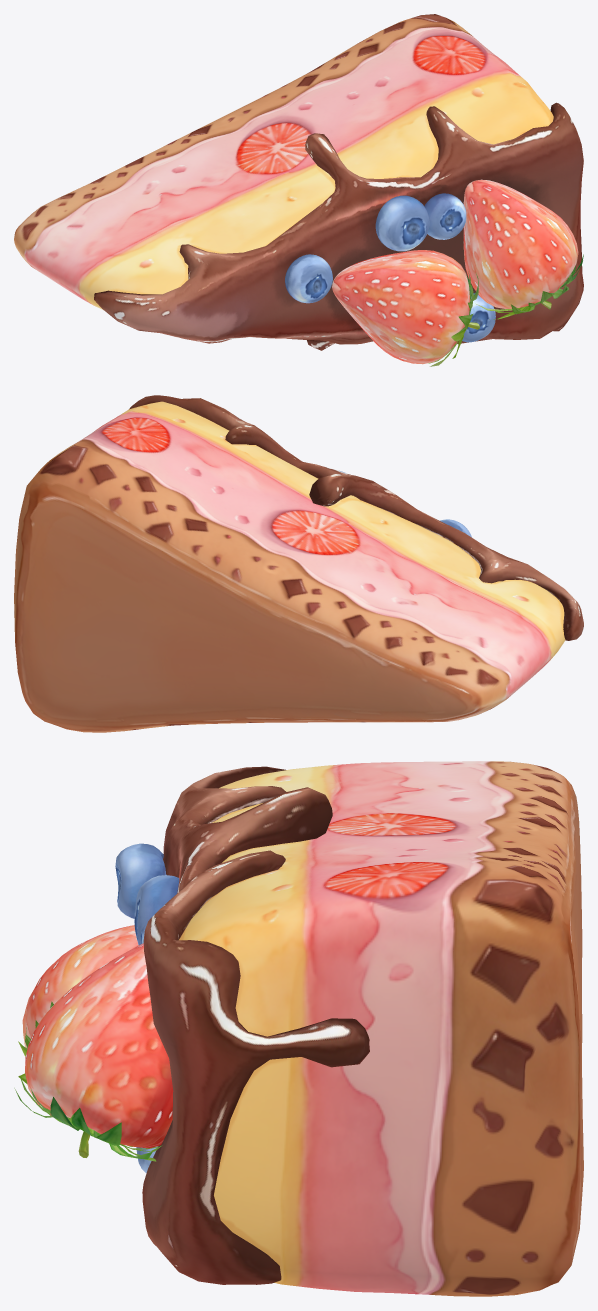
File: cake3.glb
3 renders of one model, top to bottom at view 1: azimuth 30°, elevation 25°; view 2: azimuth 150°, elevation 25°; view 3: azimuth 270°, elevation 25°, orthographic. The views are drawn at different scales.
Parts seen in each view (by area): view 1: cake001, frosting001, berries001, strawberry001, blueberry001, leaves004, leaves003; view 2: cake001, frosting001; view 3: cake001, frosting001, berries001, strawberry001, leaves004.
Part boxes in pixels (bbox=[...]): cake001: bbox=[14, 14, 553, 309]; frosting001: bbox=[94, 102, 583, 350]; berries001: bbox=[285, 179, 578, 308]; strawberry001: bbox=[332, 250, 470, 364]; blueberry001: bbox=[462, 293, 495, 342]; leaves004: bbox=[476, 254, 583, 319]; leaves003: bbox=[428, 271, 479, 366]; cake001: bbox=[14, 401, 565, 732]; frosting001: bbox=[129, 395, 583, 640]; cake001: bbox=[179, 761, 583, 1296]; frosting001: bbox=[142, 766, 369, 1284]; berries001: bbox=[25, 843, 179, 1148]; strawberry001: bbox=[22, 925, 138, 1048]; leaves004: bbox=[14, 1075, 162, 1161].
Size of the model in its own units: 0.6448 by 0.3509 by 0.4421.
1 material, 1 textured.
